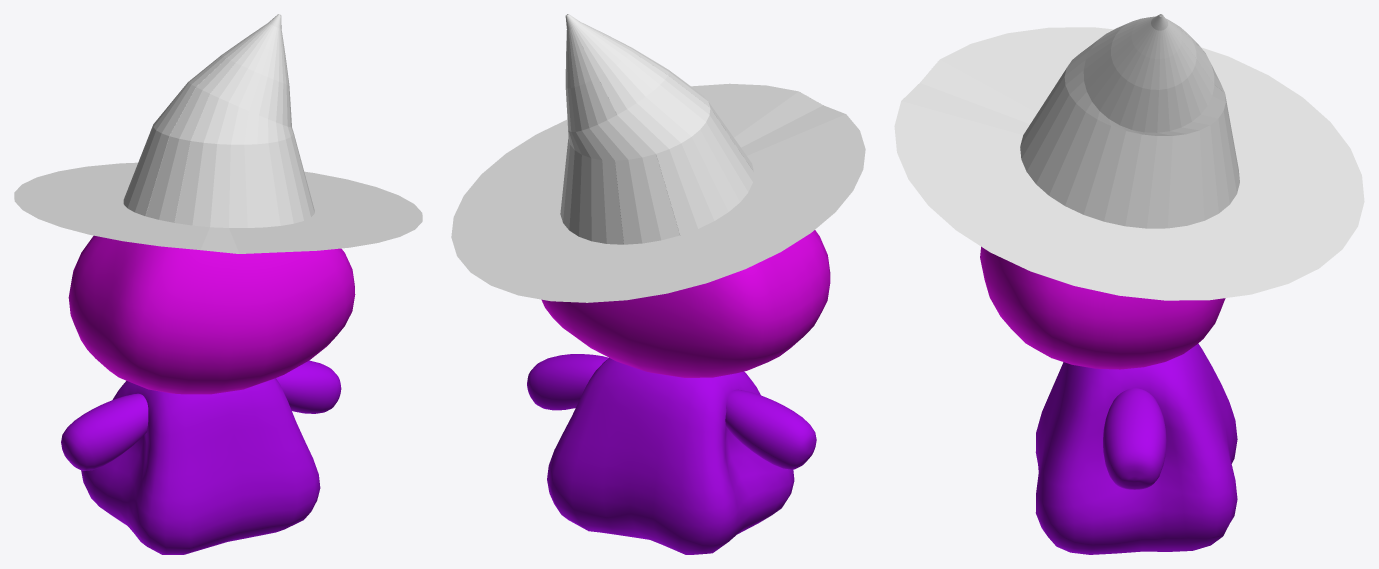
Rendered from LittleWitchTEST.fbx.
3 renders of one model, left to right at view 1: azimuth 30°, elevation 25°; view 2: azimuth 150°, elevation 25°; view 3: azimuth 270°, elevation 25°, orthographic. The views are drawn at different scales.
Parts seen in each view (by area): view 1: Hat :D, Cube.001, Cube; view 2: Hat :D, Cube.001, Cube; view 3: Hat :D, Cube.001, Cube.
Boxes of the visible parts, left/top/right/bottom form: Hat :D: left=14, top=14, right=422, bottom=253; Cube.001: left=61, top=360, right=341, bottom=554; Cube: left=68, top=235, right=355, bottom=394; Hat :D: left=451, top=14, right=865, bottom=302; Cube.001: left=527, top=354, right=816, bottom=554; Cube: left=541, top=230, right=830, bottom=377; Hat :D: left=894, top=14, right=1364, bottom=300; Cube.001: left=1035, top=343, right=1237, bottom=554; Cube: left=980, top=246, right=1225, bottom=369.
Size of the model in its own units: 345 by 458 by 344.
